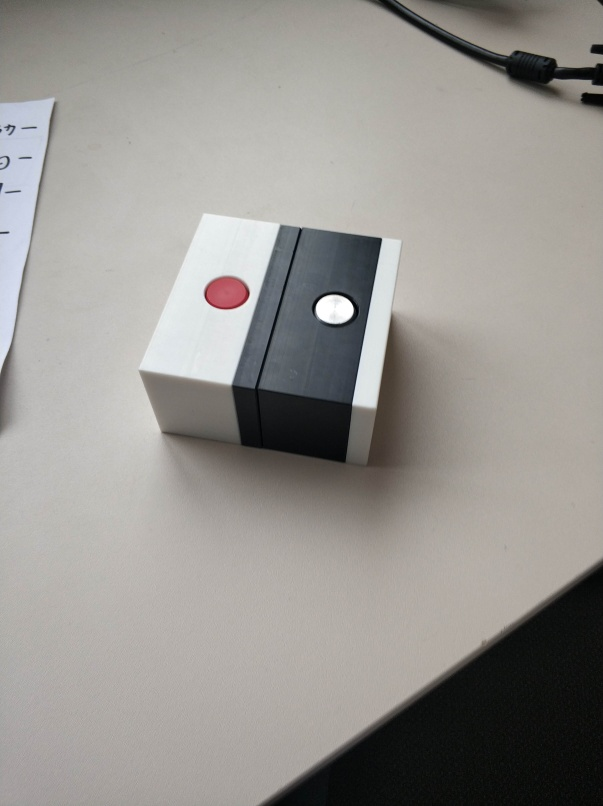black+white+red: (139, 210, 304, 449)
white+black+silver: (257, 227, 405, 467)
